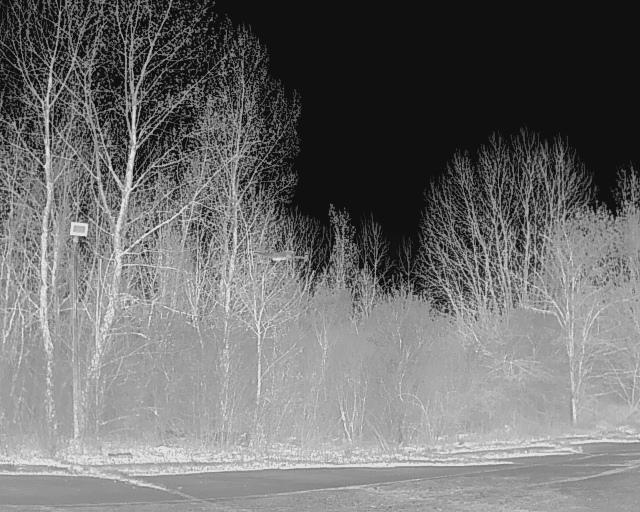drone: (247, 238, 311, 267)
